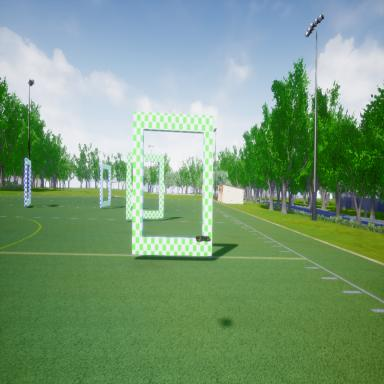gate: (130, 105, 220, 270), (126, 149, 166, 223), (98, 154, 113, 208), (24, 154, 32, 209)
